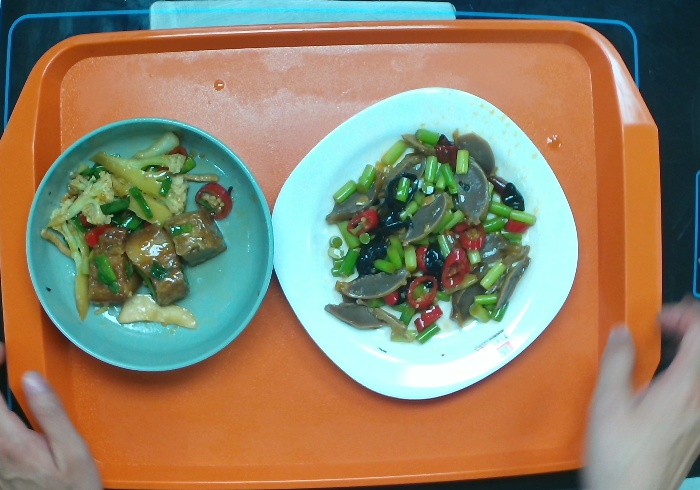ZNLD-Qing_Hua_Yuan_Wan: (21, 113, 273, 371)
ZNLD-Yuan_Jiao_Pan: (268, 84, 579, 402)
